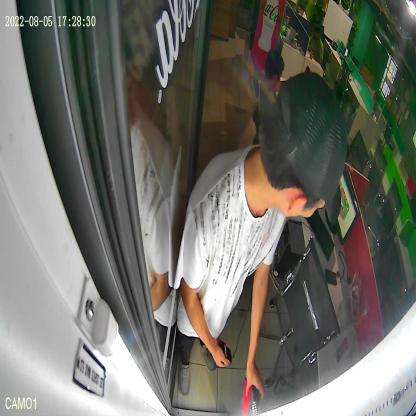red: (241, 376, 261, 416)
